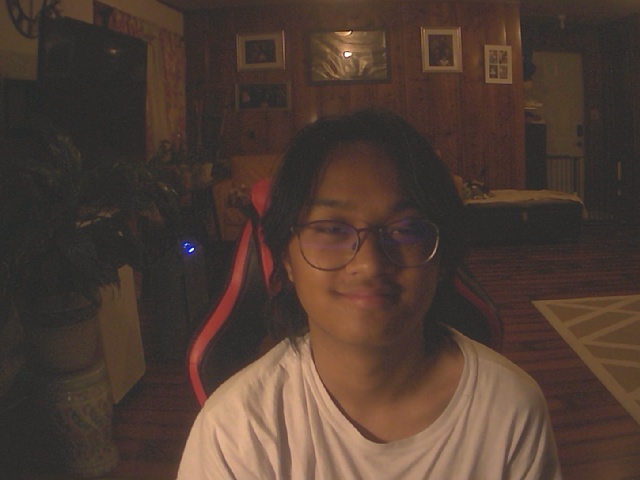happy: (256, 104, 474, 356)
